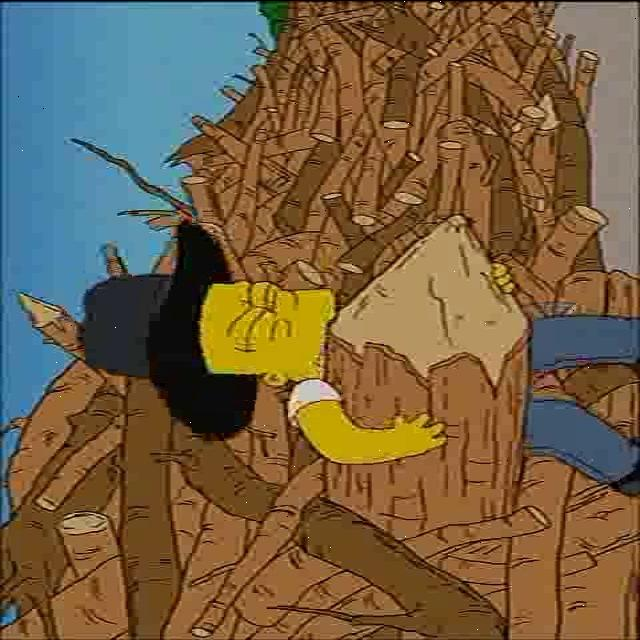Bart Simpson: (190, 278, 332, 384)
